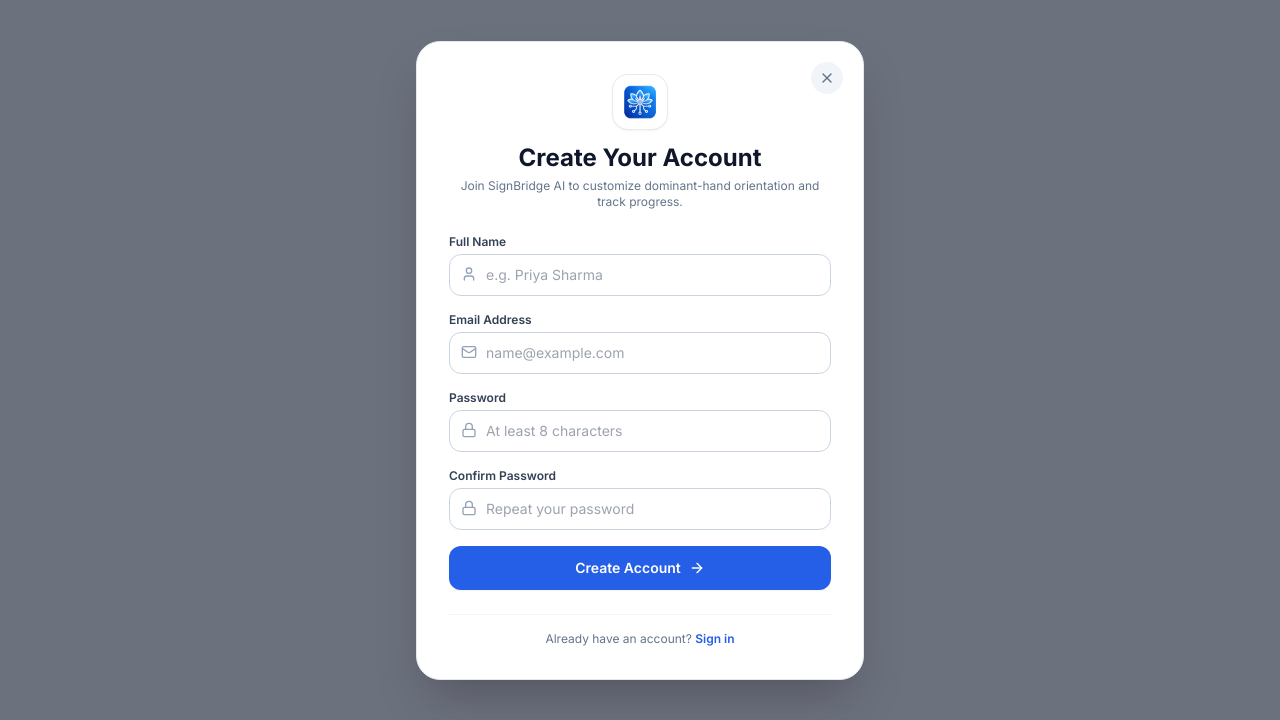
it: Authentication Flow and State Management › validates password length and email structure in AuthModal
The image size is (1280, 720).
// Mismatched passwords
Type "user@example.com" into the field with placeholder "name@example.com" at (640, 352), box [449, 332, 831, 374]
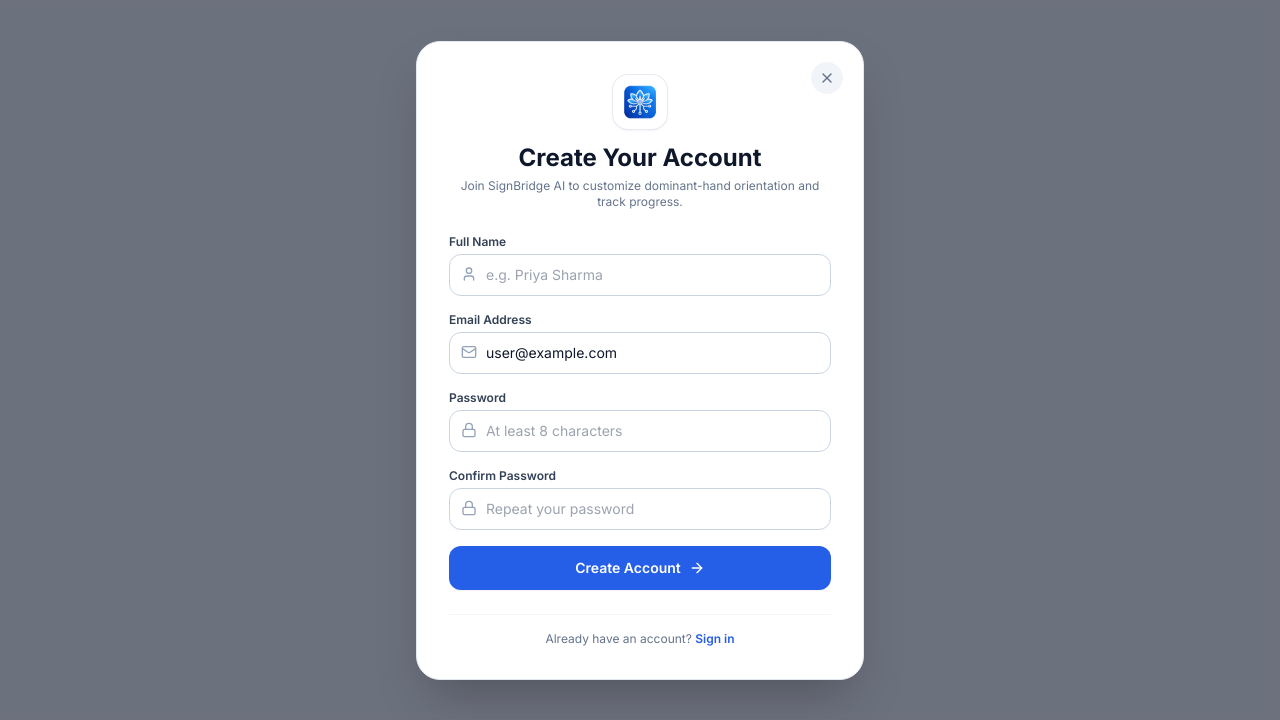
Type "Valid User" into the field with placeholder "e.g. Priya Sharma" at (640, 274), box [449, 254, 831, 296]
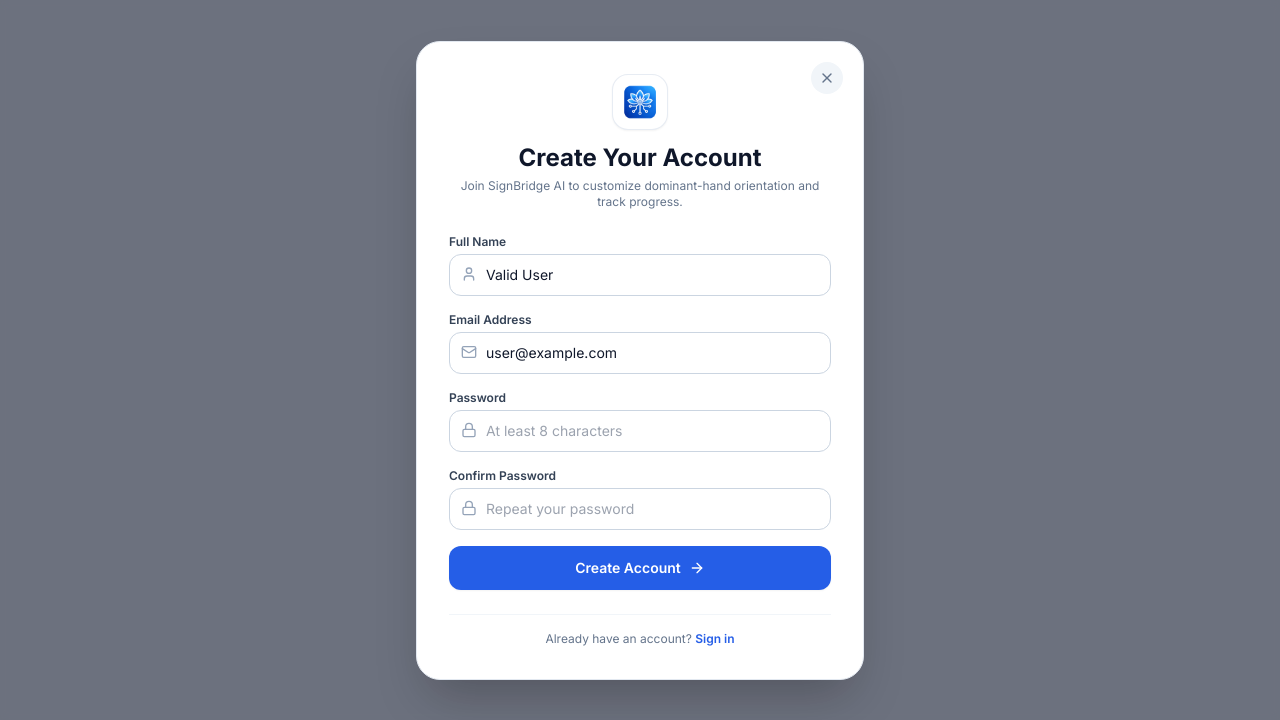
Type "password123" into the password field with placeholder "At least 8 characters" at (640, 430), box [449, 410, 831, 452]
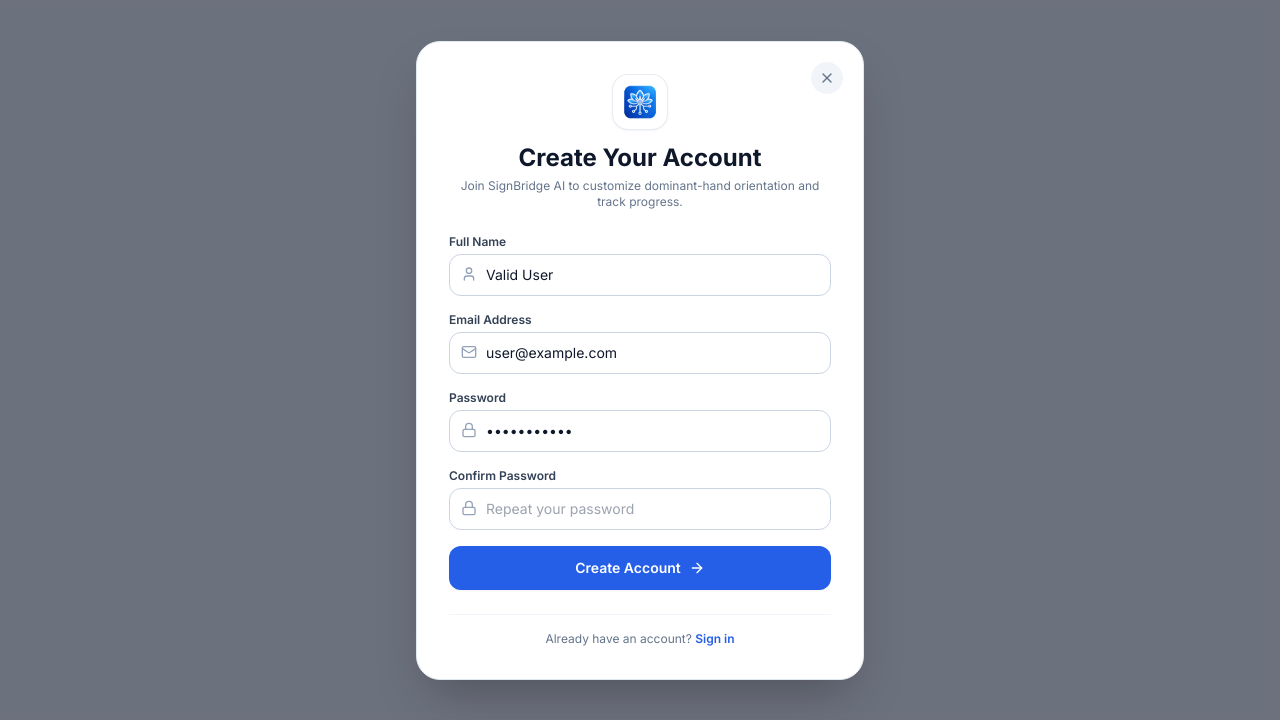
Type "different123" into the password field with placeholder "Repeat your password" at (640, 508), box [449, 488, 831, 530]
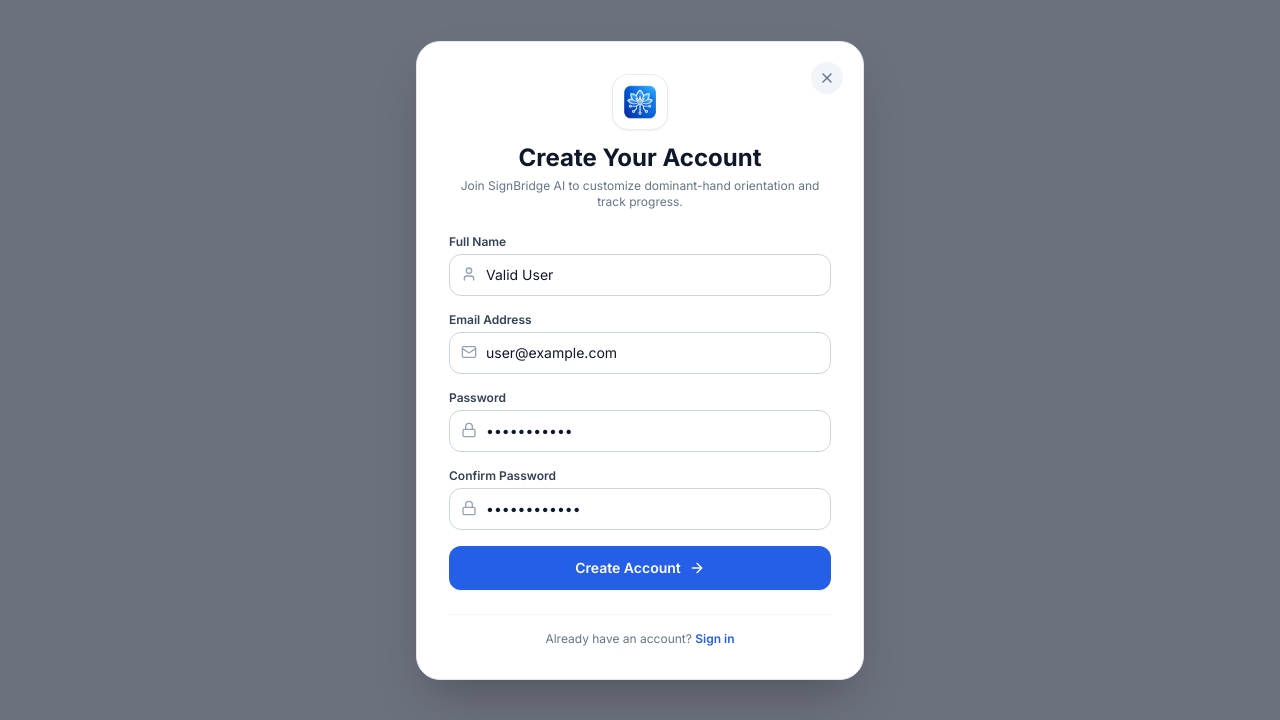
Click the button "Create Account" at (640, 568), box [449, 546, 831, 590]
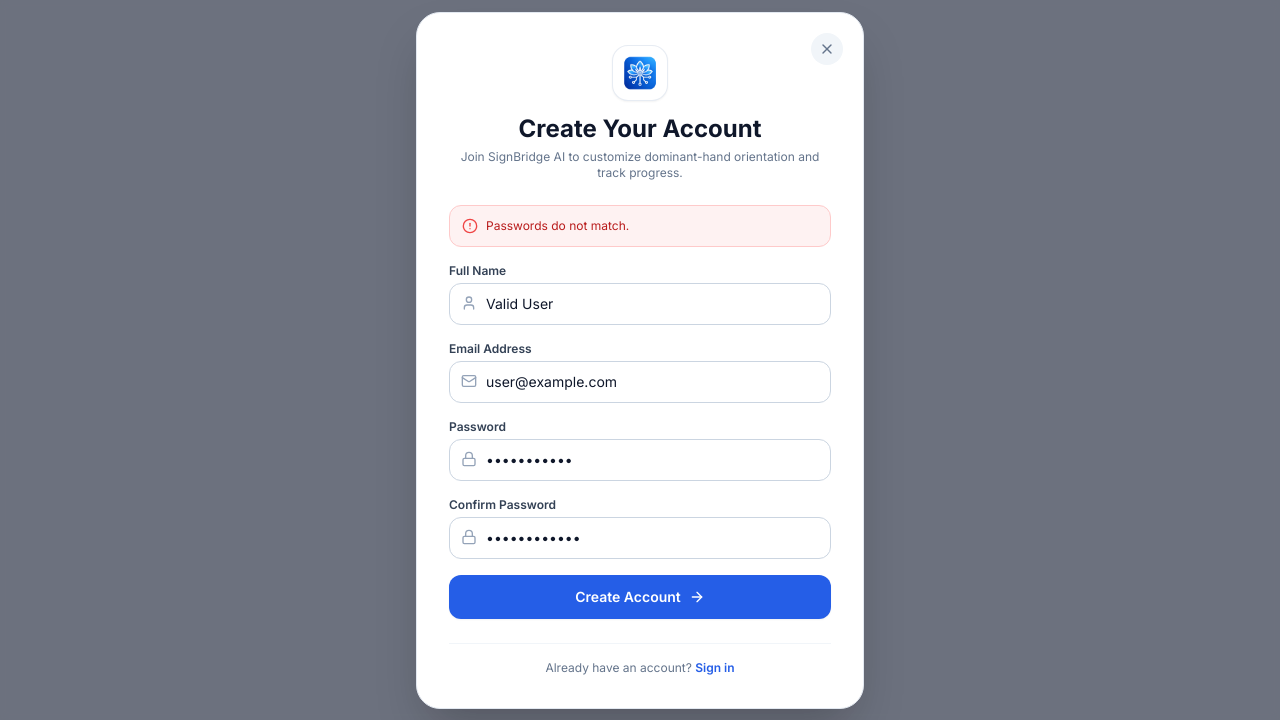
Now the text "Passwords do not match." is shown, box [486, 218, 629, 234]
